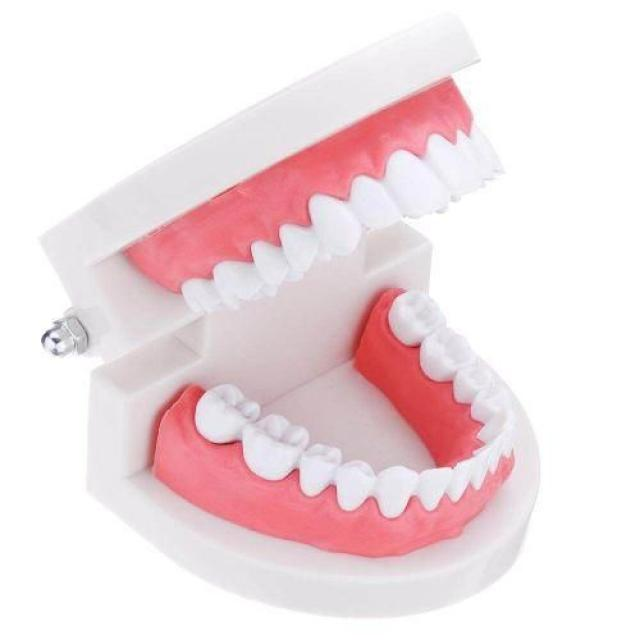tooth: (250, 413, 302, 475), (425, 138, 481, 194), (307, 202, 366, 254), (201, 386, 246, 450), (383, 168, 449, 210), (350, 191, 412, 229), (214, 262, 269, 304), (396, 290, 442, 338), (428, 332, 472, 380), (378, 471, 417, 518), (414, 460, 449, 510), (481, 393, 512, 448), (282, 229, 321, 270), (180, 284, 222, 321), (255, 244, 289, 286), (338, 465, 370, 507), (308, 448, 336, 492), (456, 463, 488, 498), (459, 367, 493, 398), (479, 433, 503, 472)
